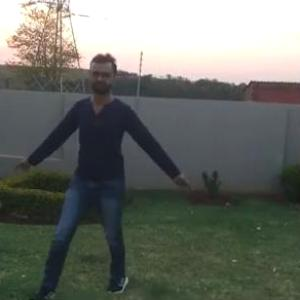land: (52, 72, 166, 239)
